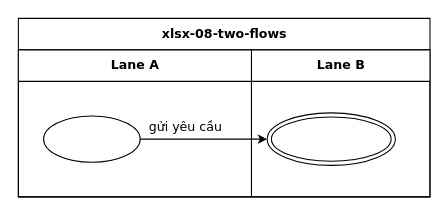
This 448x215 diagram has some shape labels left out. The centre of each missing label's shape, as x and y in pixels:
Bắt đầu: pixel 91 138
Xong sớm: pixel 330 138
